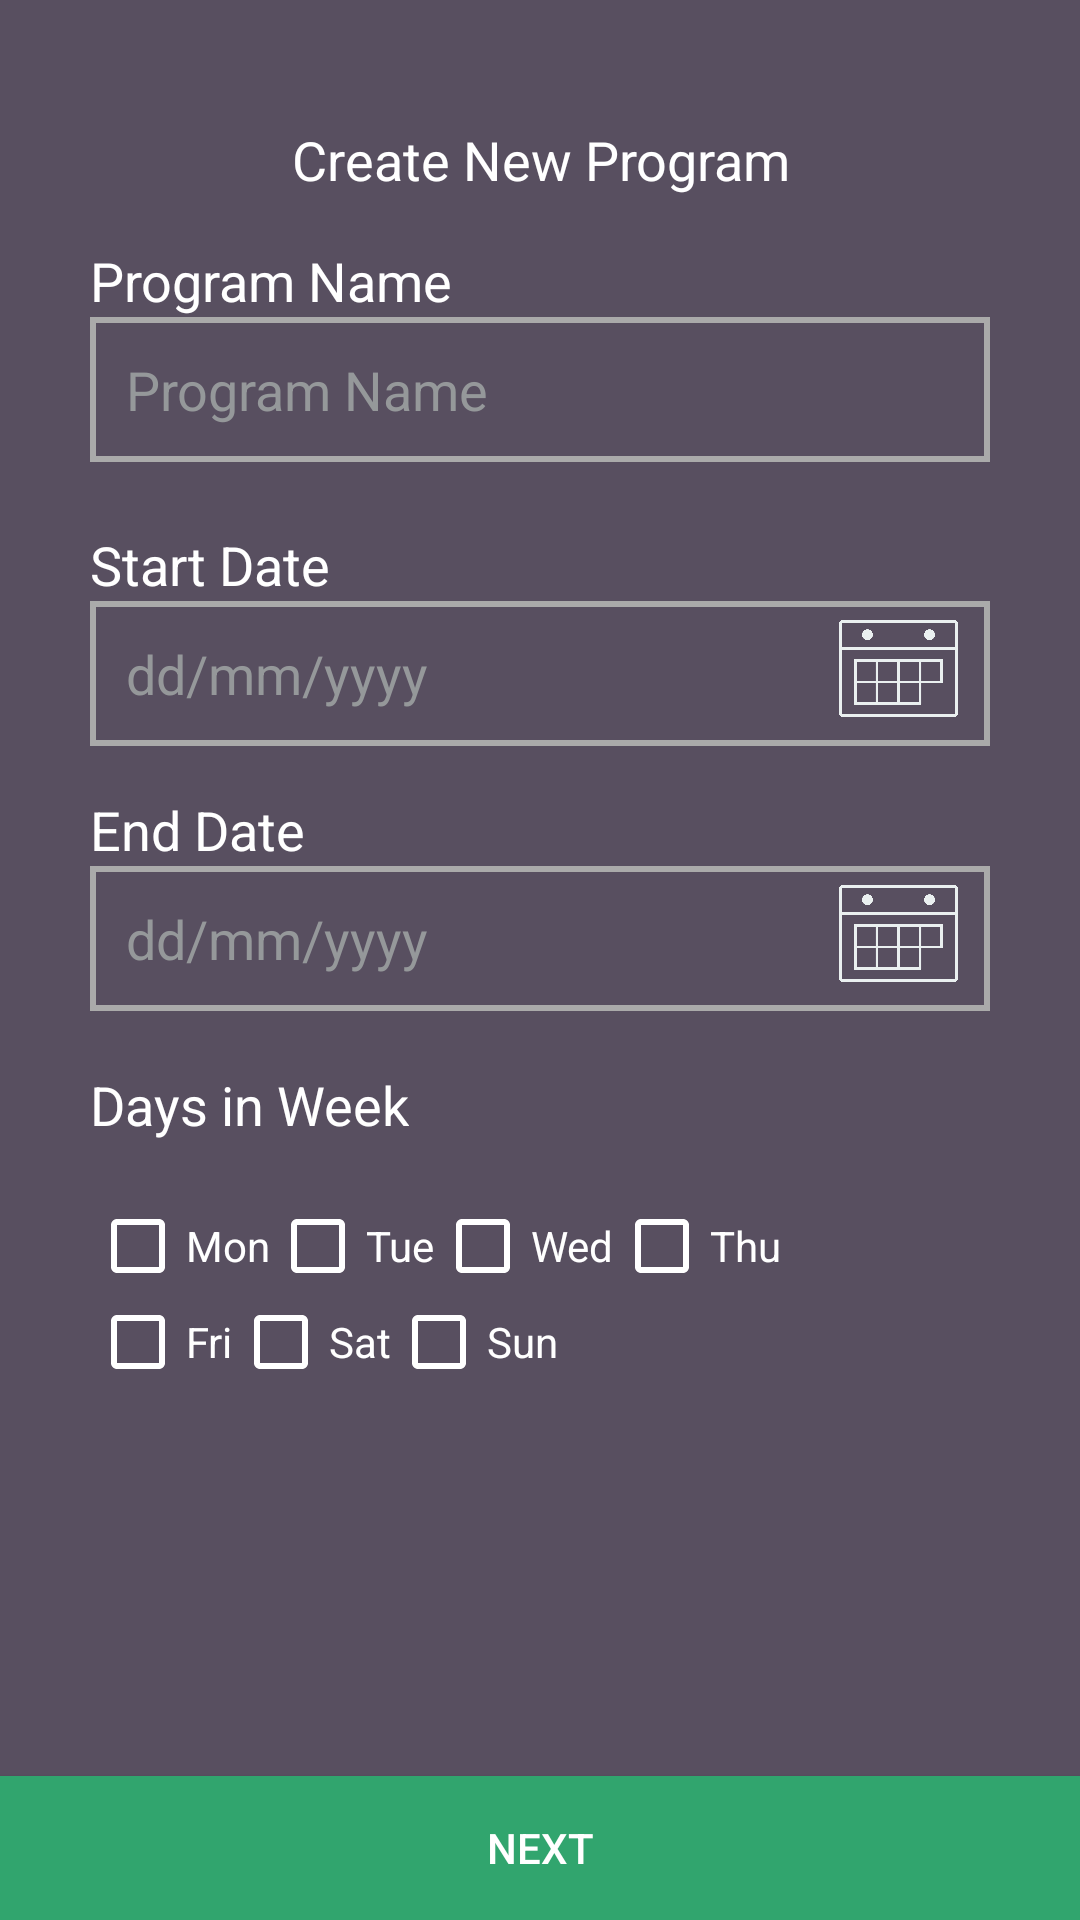

Locate icon controls on the screen. Image size 1080px×1920px, boxes as bbox(x1, y1, x2, y2).
calendar: bbox(839, 620, 958, 717), bbox(839, 885, 958, 982)
